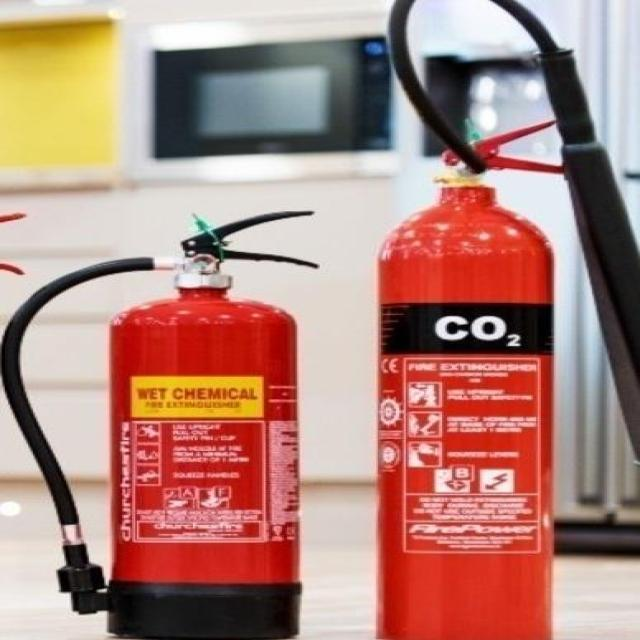fire_extinguisher: (366, 0, 638, 639), (0, 203, 327, 639)
